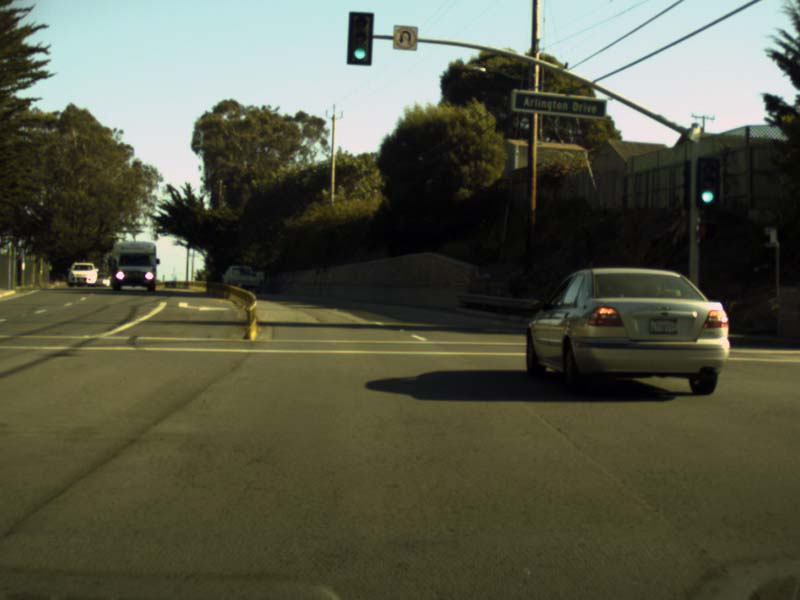Green: (696, 156, 718, 206), (348, 12, 369, 64)
